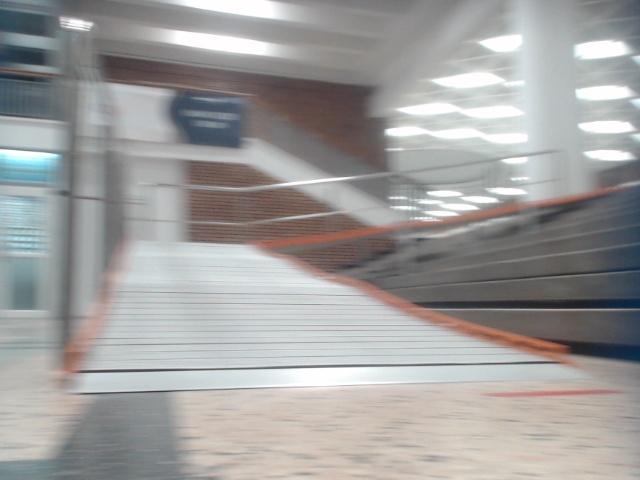rampUp: (64, 186, 625, 395)
ramps-railing: (135, 148, 569, 201), (64, 22, 127, 353), (129, 197, 421, 227), (401, 172, 420, 218)
